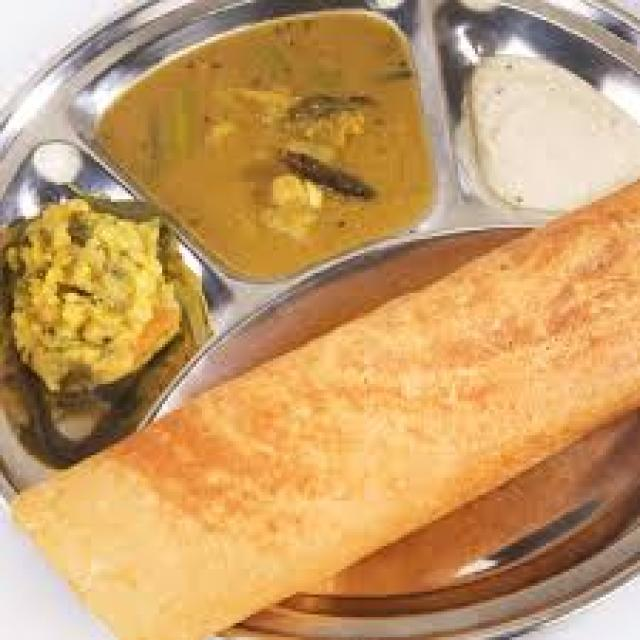Wet Waste: (6, 199, 637, 634), (461, 51, 637, 196)
